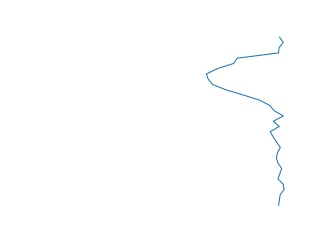distalBar: (199, 39, 291, 207)
